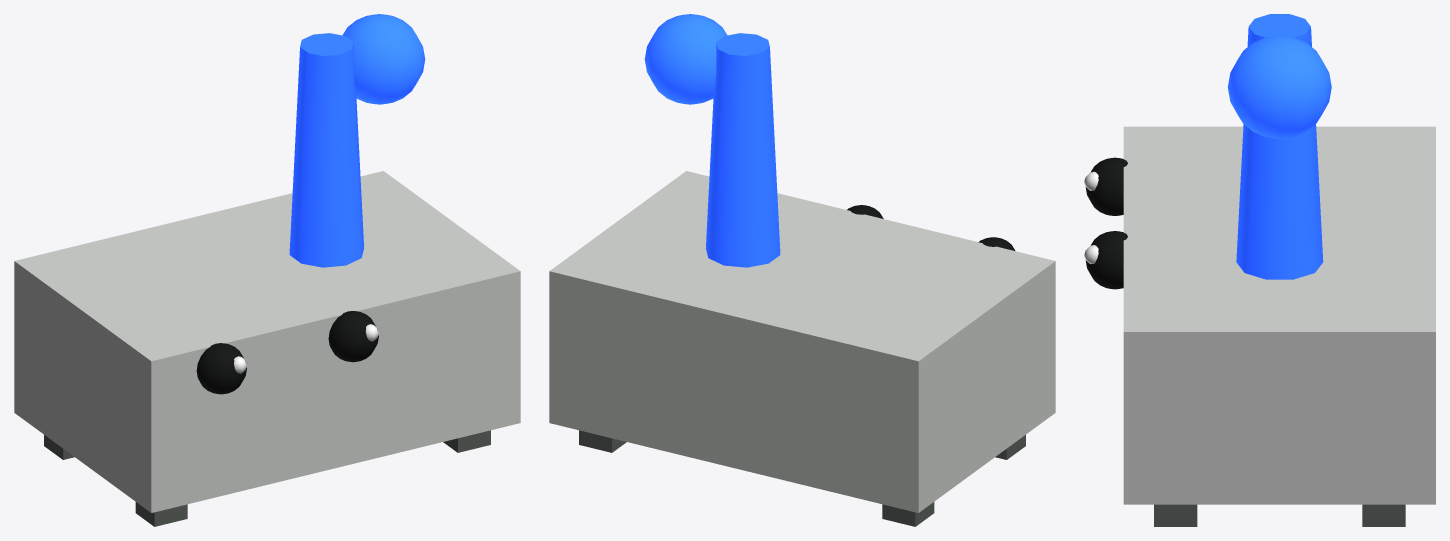
Rendered from switch.glb.
The picture shows the model from 3 angles, left to right: view 1: azimuth 30°, elevation 25°; view 2: azimuth 150°, elevation 25°; view 3: azimuth 270°, elevation 25°; orthographic projection. The views are drawn at different scales.
Bounding box in the file's own units: 2.8 × 2.9 × 2.03.
